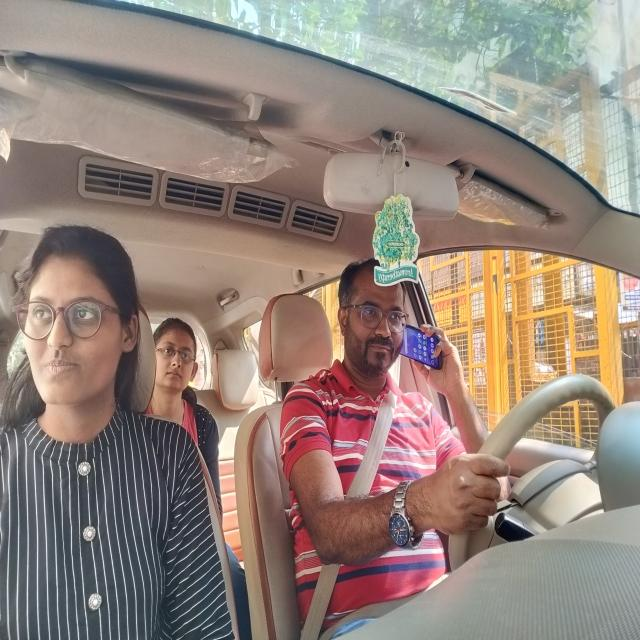mobile: (396, 314, 447, 388)
person: (14, 203, 150, 454), (314, 238, 416, 400), (158, 299, 210, 422)
